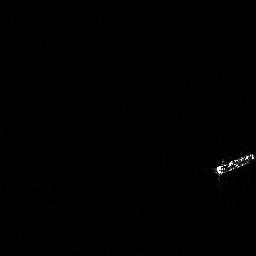ship: (217, 153, 254, 176)
